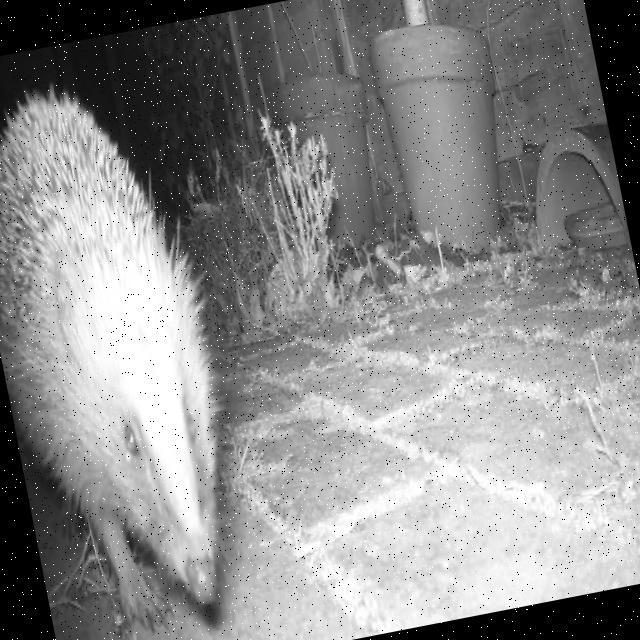Hedgehog: (0, 83, 226, 613)
